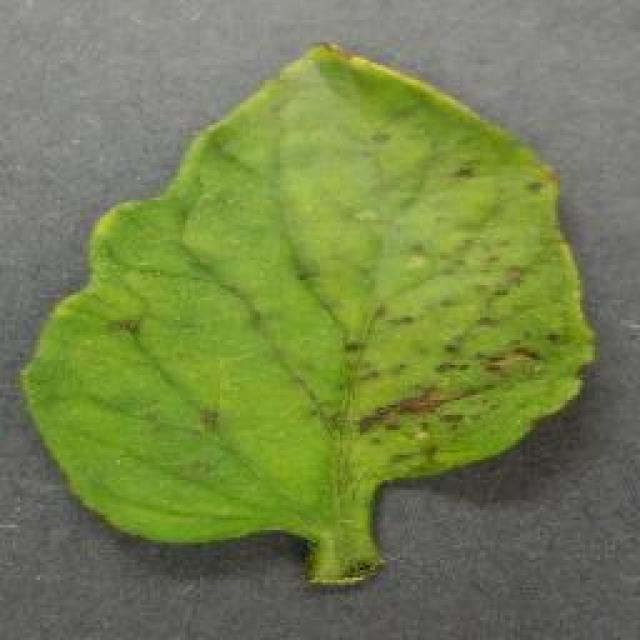Tomato___Bacterial_spot: (14, 40, 602, 585)
